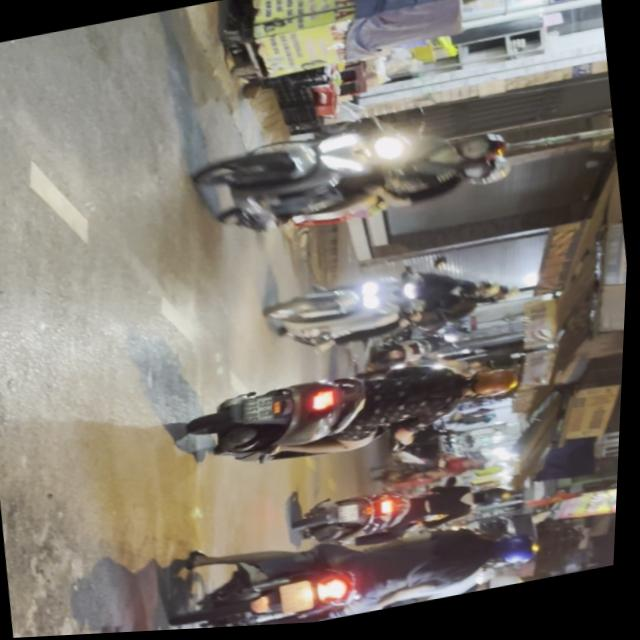helmet: (491, 535, 547, 574), (467, 367, 525, 404), (488, 533, 543, 571), (461, 153, 516, 189), (456, 132, 512, 165), (475, 280, 518, 308), (486, 575, 532, 596), (480, 487, 517, 511)
licenseplate: (173, 491, 555, 632), (188, 96, 524, 254), (178, 338, 535, 486), (263, 248, 527, 364), (297, 466, 521, 558)
nohelmet: (286, 581, 323, 616), (248, 395, 282, 425), (344, 505, 367, 525)
